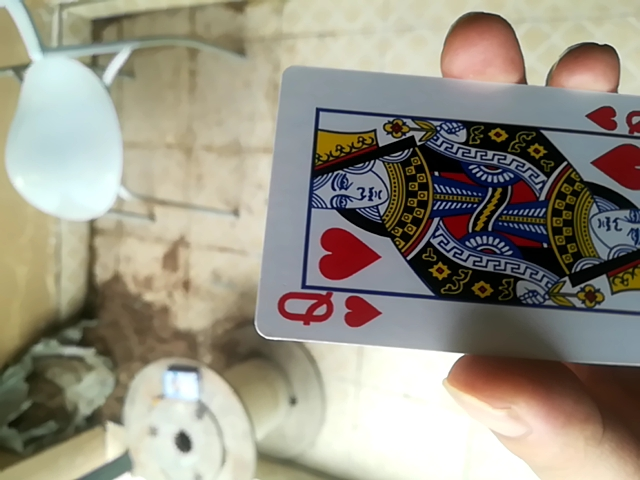hx q: (256, 66, 640, 375)
